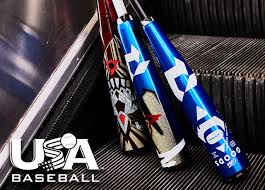baseball bat: (129, 1, 253, 182), (112, 1, 194, 172), (93, 1, 153, 156)
